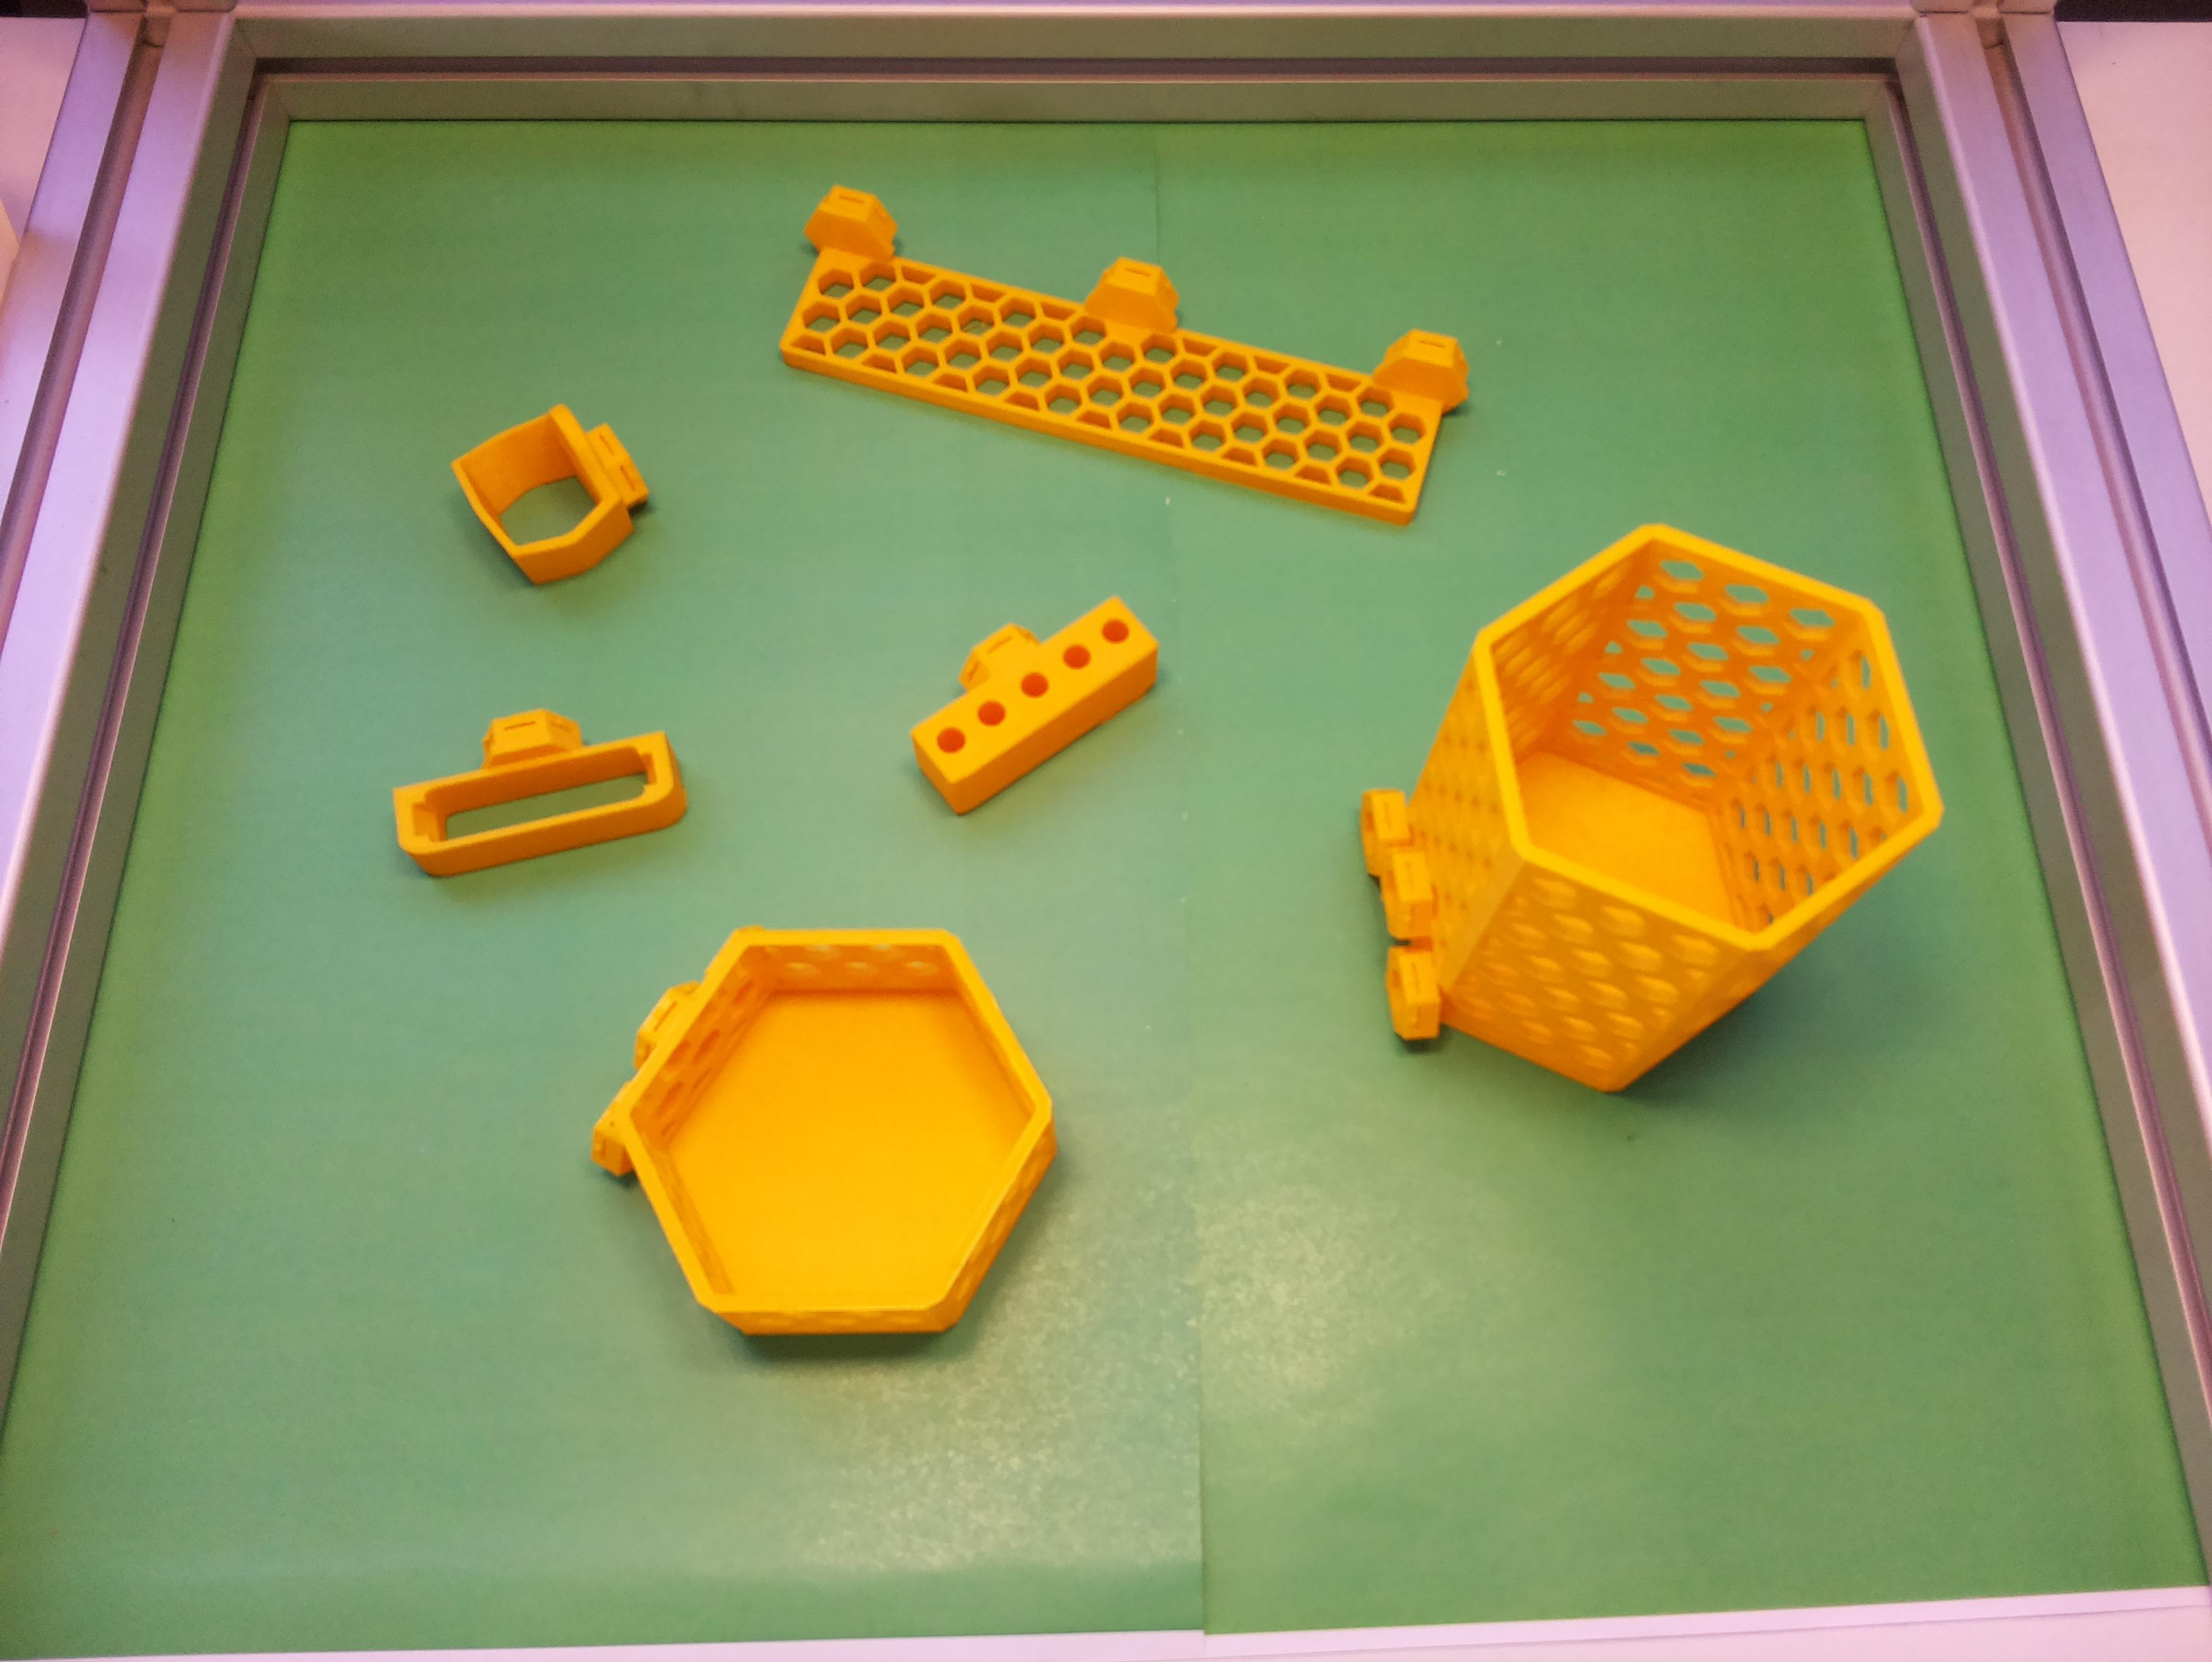bit_holder: (882, 560, 1177, 821)
bottle_holder: (536, 829, 1138, 1437)
cup_holder: (1236, 424, 2013, 1187)
cutter_holder: (377, 683, 691, 885)
scissor_holder: (447, 382, 669, 604)
tool_holder: (770, 180, 1480, 532)
